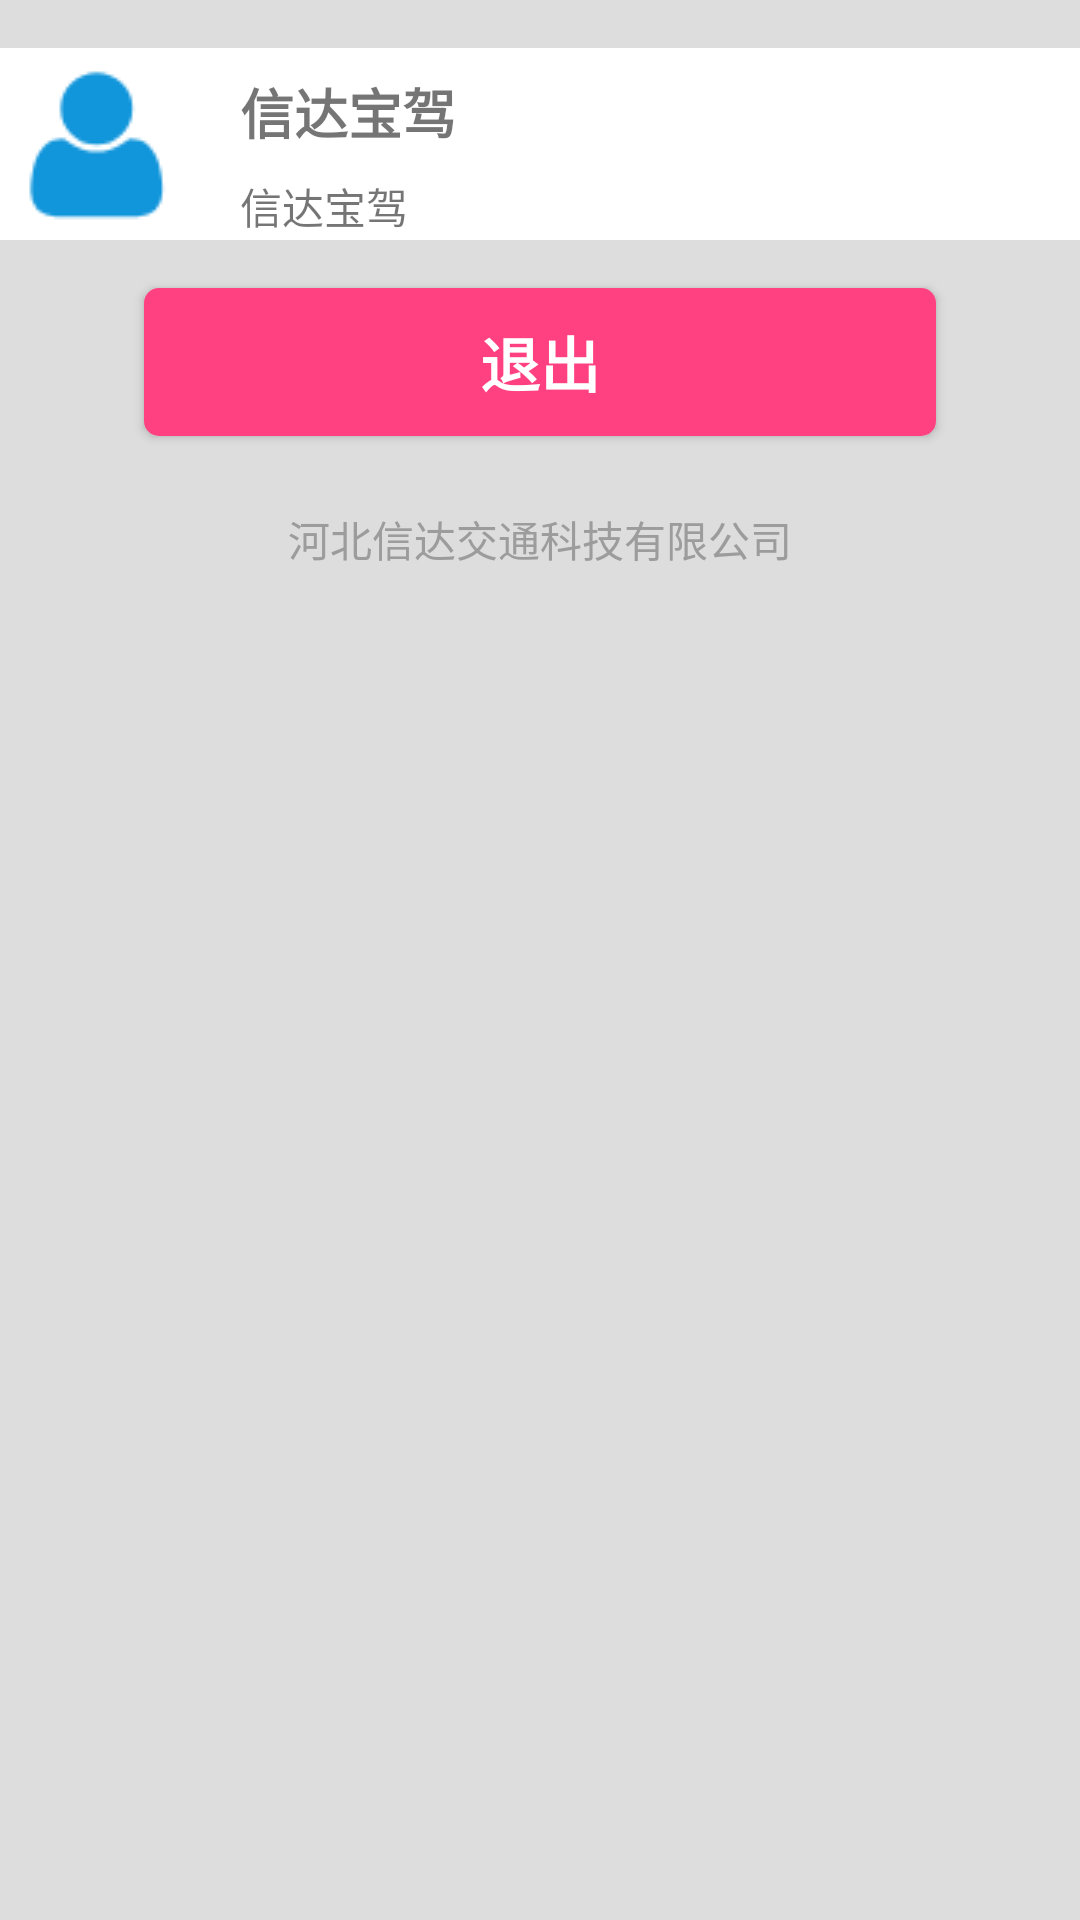

Where icons sit on this 1080 x 1920 app screen, as rect(x1, y1, x2, y2):
user: rect(29, 71, 164, 219)
